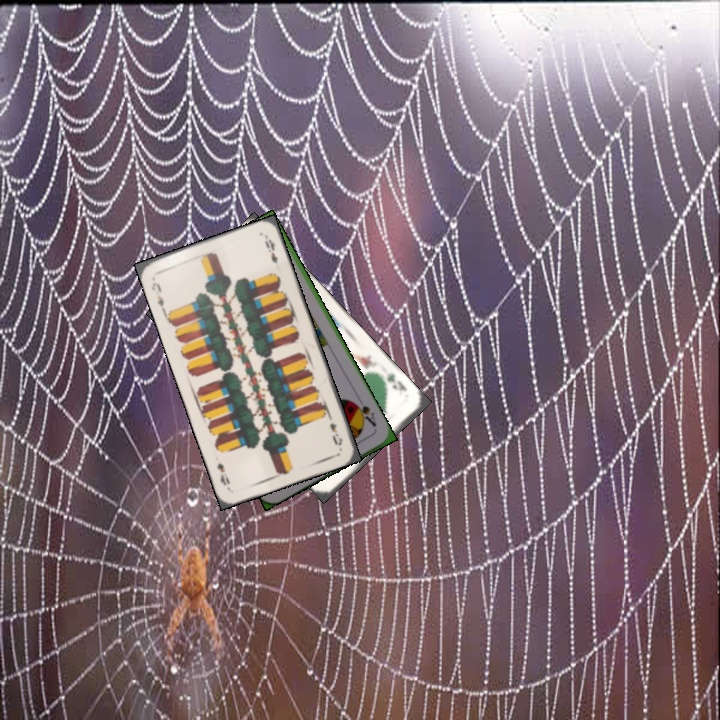E9: (324, 411, 345, 448), (147, 278, 168, 313)
GK: (383, 369, 410, 394)
SA: (349, 398, 379, 430)
